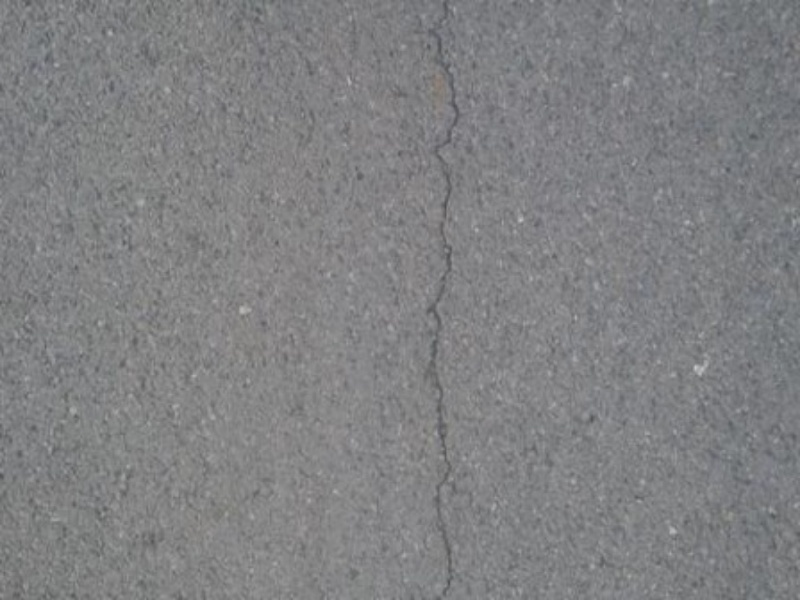crack: (401, 8, 501, 588)
